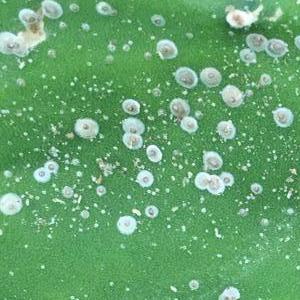Femea: (173, 69, 196, 85), (272, 107, 291, 125), (77, 118, 95, 135), (156, 40, 175, 55), (202, 68, 218, 85), (122, 135, 142, 148), (225, 87, 239, 104), (170, 100, 187, 114), (218, 123, 233, 138), (203, 153, 217, 169), (208, 176, 222, 192), (124, 121, 142, 133), (146, 147, 160, 160), (124, 101, 138, 113), (182, 119, 194, 133), (137, 173, 149, 184), (35, 169, 47, 180), (43, 161, 56, 171), (145, 206, 155, 215)
Linfa: (238, 161, 252, 171), (150, 186, 160, 196)
Macho: (76, 194, 83, 205)
